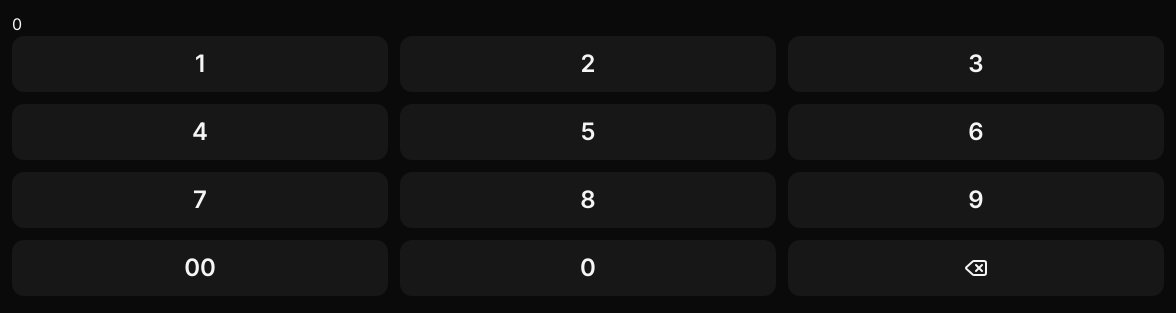
Test: AmountKeypad › enters fixed-decimal amounts in minor units
Click the button named "Enter 1" at (200, 64), box [12,36,388,92]
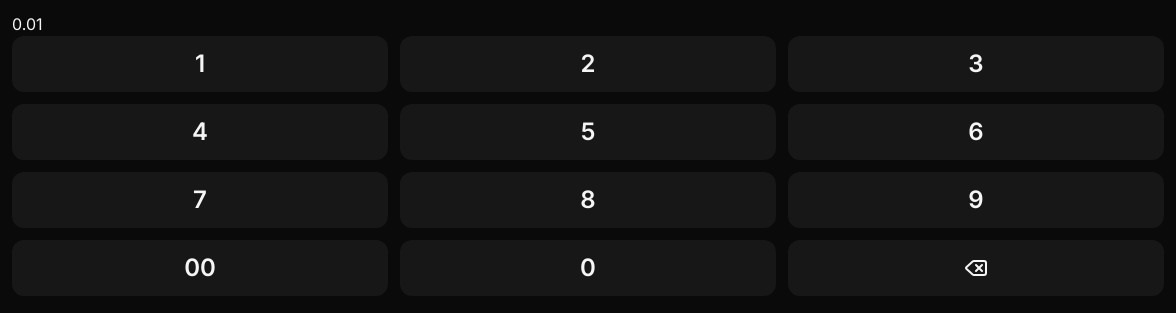
Result: the text with test id "value" reads "0.01" at [12,14,42,34]
Click the button named "Enter 0" at (588, 268), box [400,240,776,296]
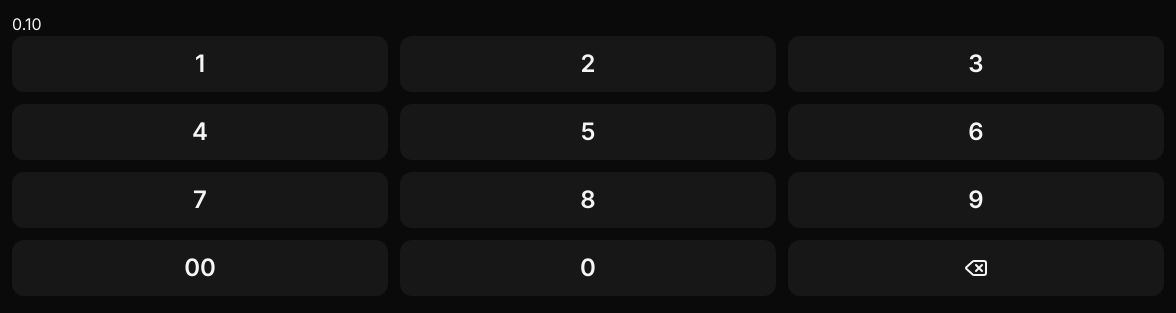
Result: the text with test id "value" reads "0.10" at [12,14,42,34]
Click the button named "Enter 0" at (588, 268), box [400,240,776,296]
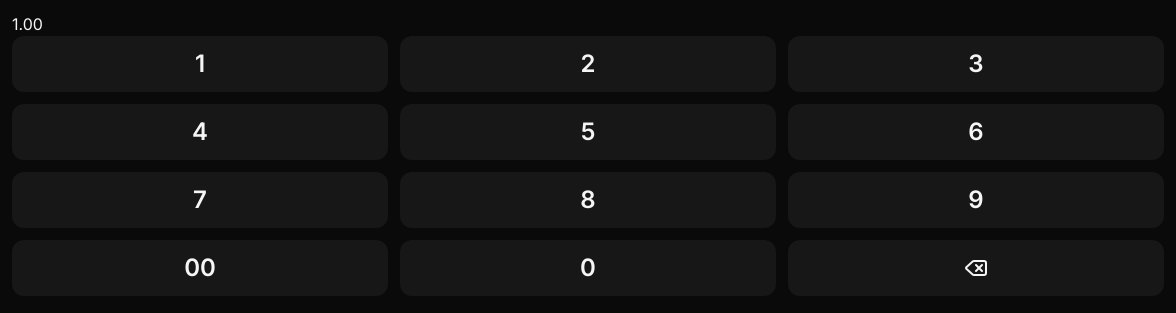
Result: the text with test id "value" reads "1.00" at [12,14,43,34]
